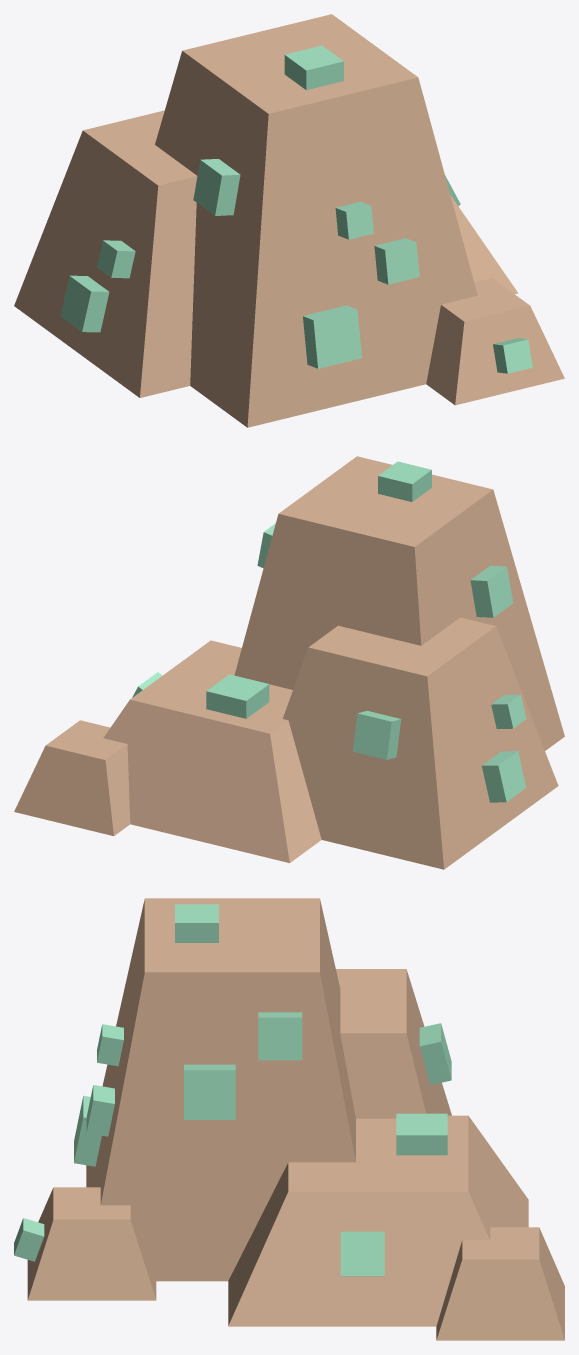
File: rocksSmallOre.glb
3 renders of one model, top to bottom at view 1: azimuth 30°, elevation 25°; view 2: azimuth 150°, elevation 25°; view 3: azimuth 270°, elevation 25°, orthographic. The views are drawn at different scales.
Parts seen in each view (by area): view 1: rocksSmallOre; view 2: rocksSmallOre; view 3: rocksSmallOre.
Boxes of the visible parts, <box> form: rocksSmallOre: <box>14,14,564,427</box>; rocksSmallOre: <box>14,456,564,869</box>; rocksSmallOre: <box>14,898,564,1340</box>.
Bounding box in the file's own units: 6.86 × 4.57 × 7.5.
